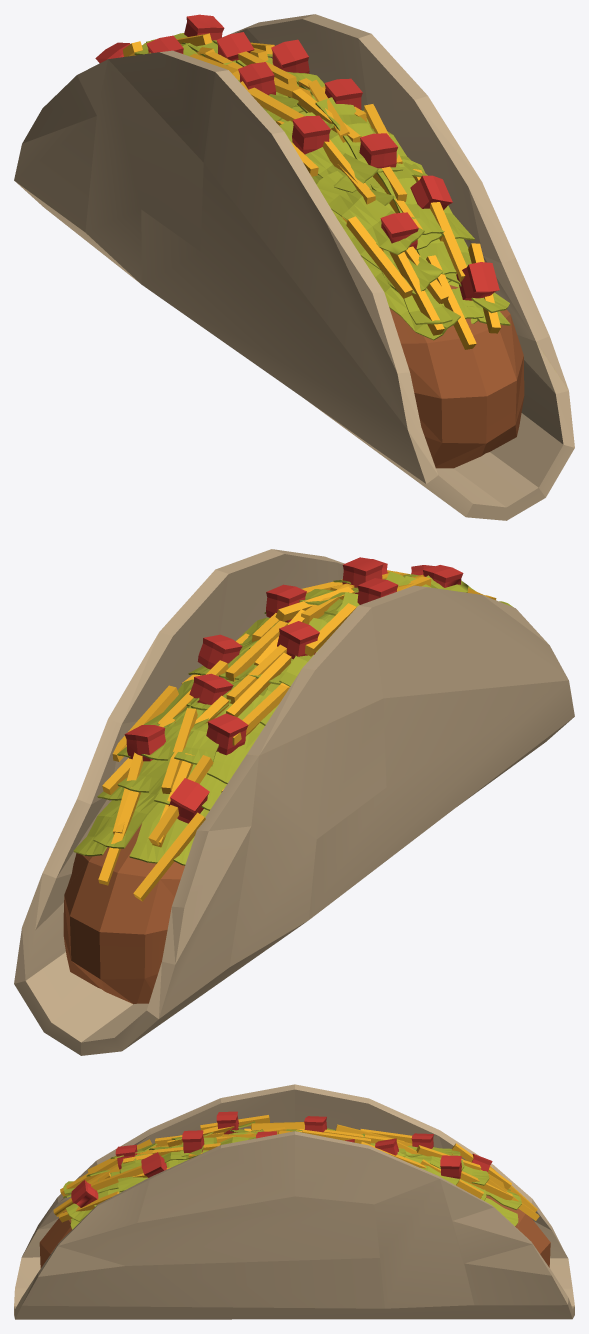
Rendered from Taco.fbx.
3 renders of one model, top to bottom at view 1: azimuth 30°, elevation 25°; view 2: azimuth 150°, elevation 25°; view 3: azimuth 270°, elevation 25°, orthographic. The views are drawn at different scales.
Parts seen in each view (by area): view 1: Taco_LOD0; view 2: Taco_LOD0; view 3: Taco_LOD0.
Boxes of the visible parts, x1,y1,x2,y2 form: Taco_LOD0: [14, 14, 574, 520]; Taco_LOD0: [14, 549, 574, 1055]; Taco_LOD0: [14, 1084, 574, 1319].
Bounding box in the file's own units: 42.24 × 68.85 × 170.
